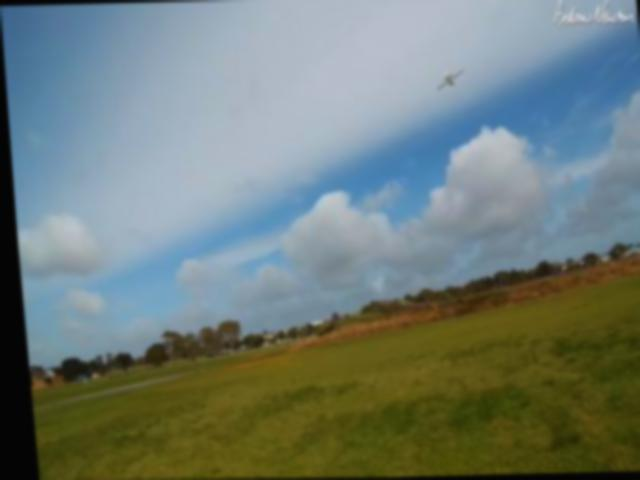uav: (428, 64, 469, 95)
